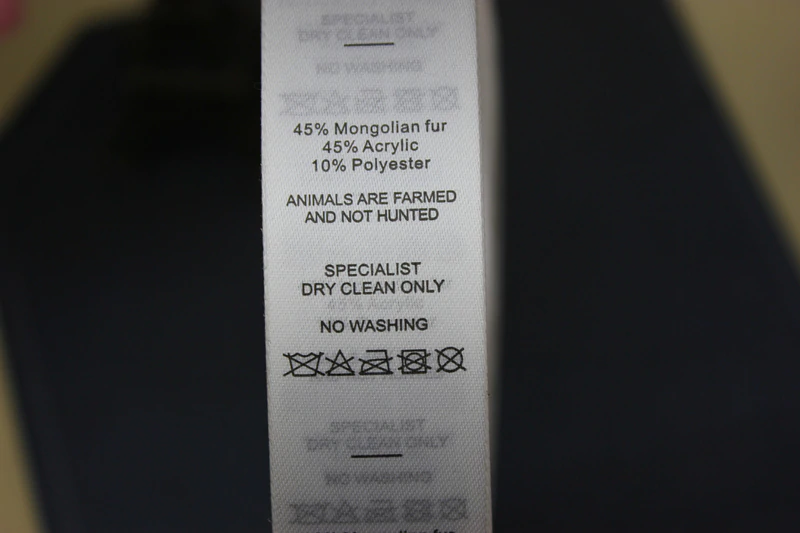do_not_dry_clean: (435, 346, 466, 373)
do_not_iron: (358, 348, 394, 375)
do_not_wash: (285, 351, 324, 377)
